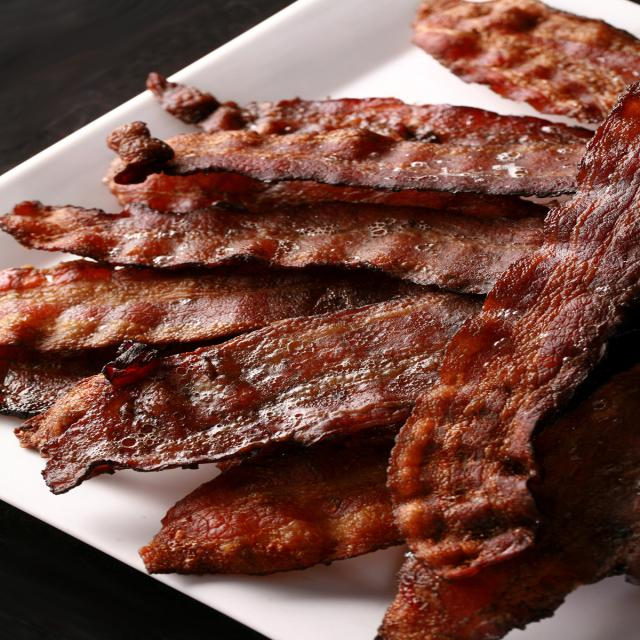Bacon: (388, 85, 639, 578), (17, 292, 482, 494), (0, 201, 544, 293), (107, 129, 585, 217), (412, 0, 639, 122)
